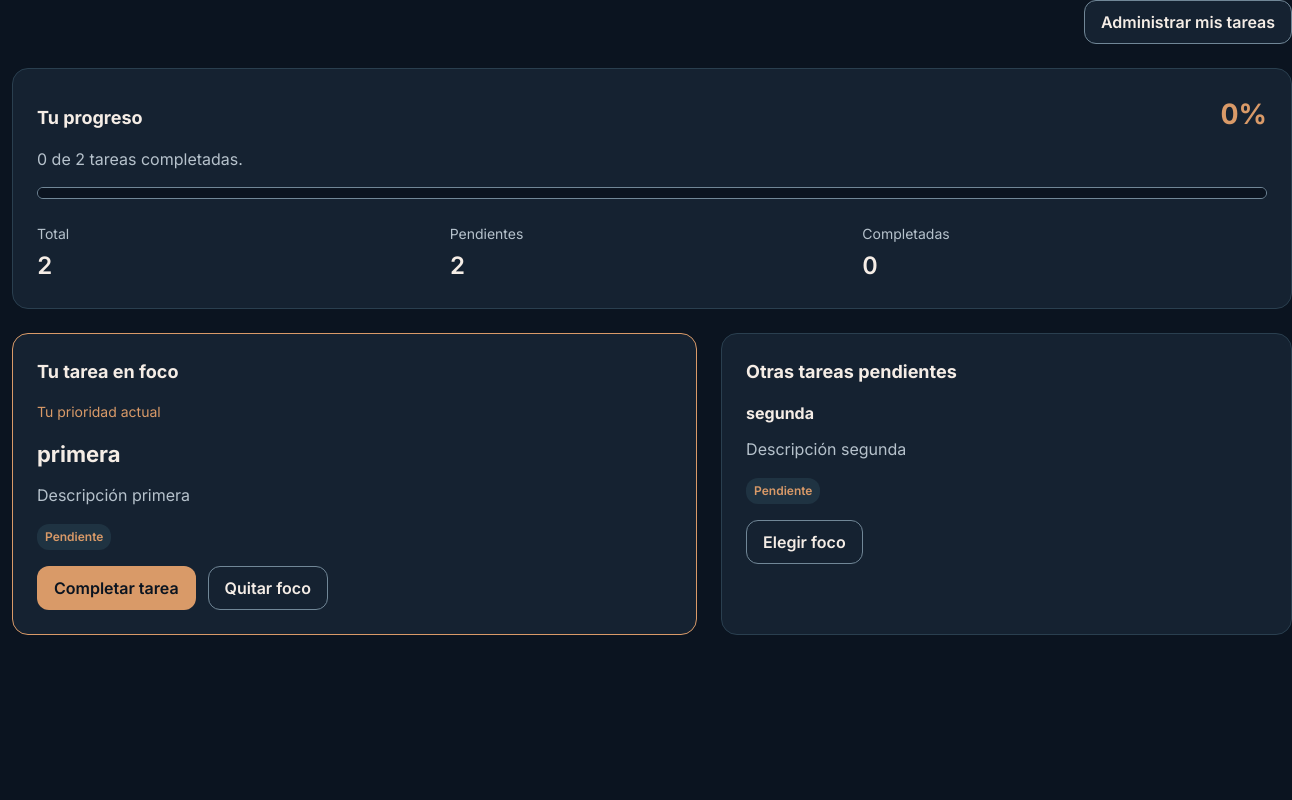
Test case: no pierde el foco cuando falla complete
The width and height of the screenshot is (1292, 800).
Step 1. Click the button "Completar tarea" → (116, 588), box 37,566 -> 196,610
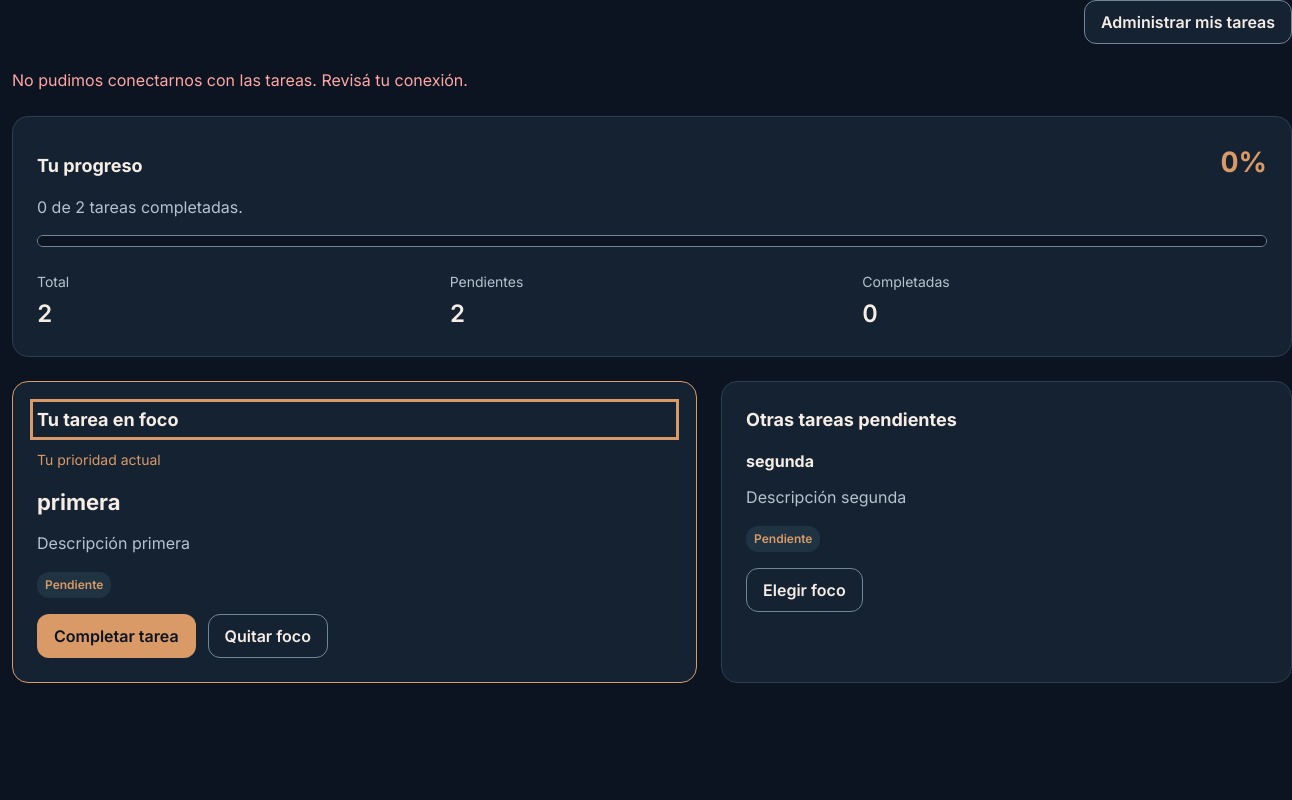
Expected: the heading "primera" is shown, 37,489 -> 120,515
Now the message shows "conexión", box 12,70 -> 468,90
